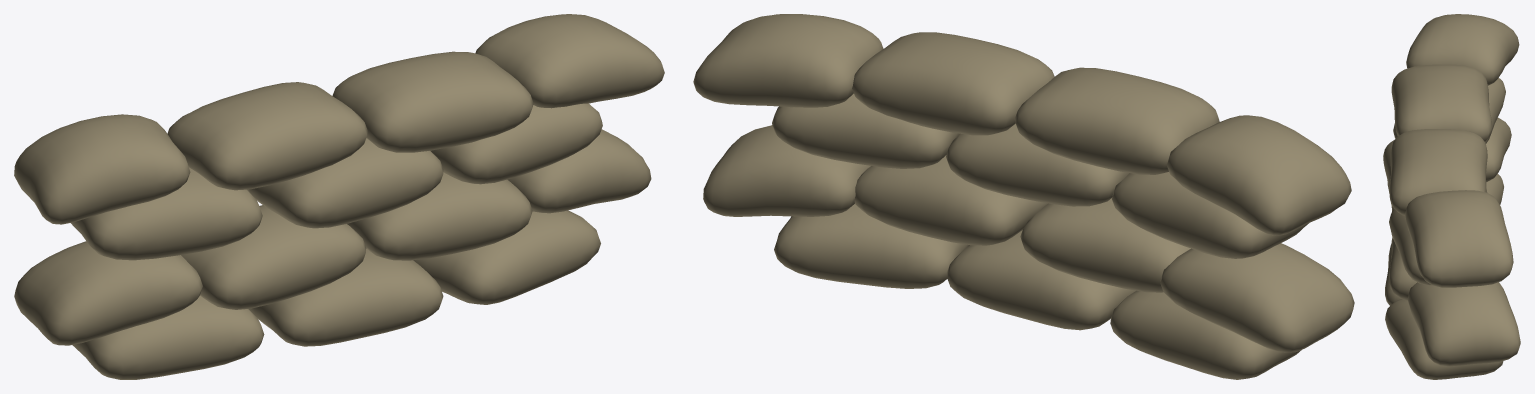
The model's file is sack-trench.glb.
3 views of the same model, side by side, from view 1: azimuth 30°, elevation 25°; view 2: azimuth 150°, elevation 25°; view 3: azimuth 270°, elevation 25° (orthographic). The views are drawn at different scales.
Parts seen in each view (by area): view 1: SackTrench; view 2: SackTrench; view 3: SackTrench.
Boxes of the visible parts, <box> form: SackTrench: <box>14,14,664,379</box>; SackTrench: <box>693,14,1354,379</box>; SackTrench: <box>1383,14,1520,379</box>.
Bounding box in the file's own units: 3.16 × 1.19 × 0.7751.
